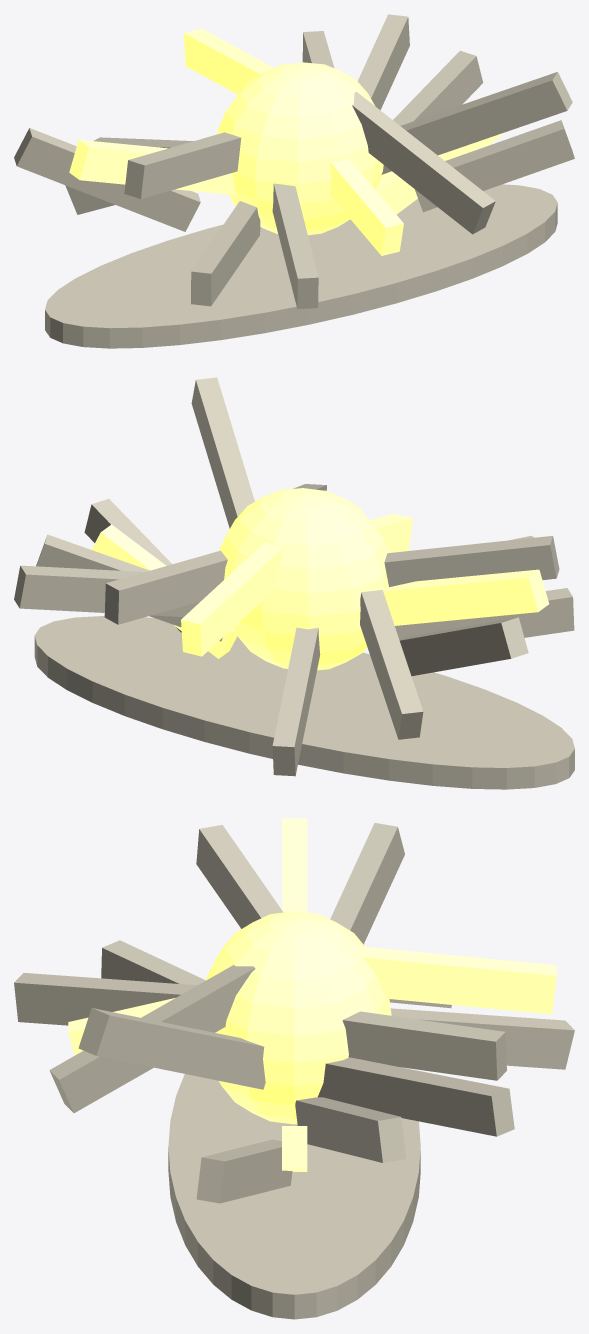
The model's file is bone_impact.glb.
The picture shows the model from 3 angles, top to bottom: view 1: azimuth 30°, elevation 25°; view 2: azimuth 150°, elevation 25°; view 3: azimuth 270°, elevation 25°; orthographic projection. The views are drawn at different scales.
Parts seen in each view (by area): view 1: bone impact hit bone ring, bone impact marrow flash, bone impact splinter 13, bone impact splinter 14, bone impact splinter 7, bone impact splinter 15, bone impact splinter 9, bone impact splinter 10, bone impact splinter 12, bone impact splinter 11, bone impact splinter 8, bone impact splinter 4 (+6 smaller); view 2: bone impact hit bone ring, bone impact marrow flash, bone impact splinter 8, bone impact splinter 9, bone impact splinter 3, bone impact splinter 4, bone impact splinter 7, bone impact splinter 6, bone impact splinter 14, bone impact splinter 2, bone impact splinter 5, bone impact splinter 10 (+4 smaller); view 3: bone impact hit bone ring, bone impact marrow flash, bone impact splinter 2, bone impact splinter 4, bone impact splinter 14, bone impact splinter 3, bone impact splinter 13, bone impact splinter 11, bone impact splinter 1, bone impact splinter 5, bone impact splinter 7, bone impact splinter 9 (+5 smaller).
Boxes of the visible parts, <box> form: bone impact hit bone ring: <box>45,184,557,348</box>; bone impact marrow flash: <box>217,62,383,235</box>; bone impact splinter 13: <box>352,92,495,234</box>; bone impact splinter 14: <box>381,72,572,174</box>; bone impact splinter 7: <box>14,128,200,231</box>; bone impact splinter 15: <box>414,120,574,212</box>; bone impact splinter 9: <box>124,132,241,198</box>; bone impact splinter 10: <box>191,201,260,306</box>; bone impact splinter 12: <box>330,158,403,255</box>; bone impact splinter 11: <box>272,183,318,309</box>; bone impact splinter 8: <box>69,139,236,195</box>; bone impact splinter 4: <box>184,28,273,94</box>; bone impact hit bone ring: <box>34,616,574,789</box>; bone impact marrow flash: <box>219,488,389,670</box>; bone impact splinter 8: <box>381,569,549,625</box>; bone impact splinter 9: <box>384,536,559,586</box>; bone impact splinter 3: <box>104,550,227,624</box>; bone impact splinter 4: <box>181,541,284,656</box>; bone impact splinter 7: <box>399,617,528,676</box>; bone impact splinter 6: <box>360,590,423,739</box>; bone impact splinter 14: <box>191,377,254,528</box>; bone impact splinter 2: <box>14,565,200,616</box>; bone impact splinter 5: <box>272,627,320,776</box>; bone impact splinter 10: <box>395,588,574,639</box>; bone impact hit bone ring: <box>168,1074,420,1319</box>; bone impact marrow flash: <box>205,911,391,1124</box>; bone impact splinter 2: <box>318,1057,514,1136</box>; bone impact splinter 4: <box>362,946,556,1014</box>; bone impact splinter 14: <box>78,1008,265,1089</box>; bone impact splinter 3: <box>342,1011,506,1080</box>; bone impact splinter 13: <box>49,965,255,1112</box>; bone impact splinter 11: <box>14,973,197,1025</box>; bone impact splinter 1: <box>295,1097,406,1162</box>; bone impact splinter 5: <box>390,1008,574,1069</box>; bone impact splinter 7: <box>330,823,404,944</box>; bone impact splinter 9: <box>196,825,283,928</box>.
Bounding box in the file's own units: 0.72 × 0.297 × 0.5762.
